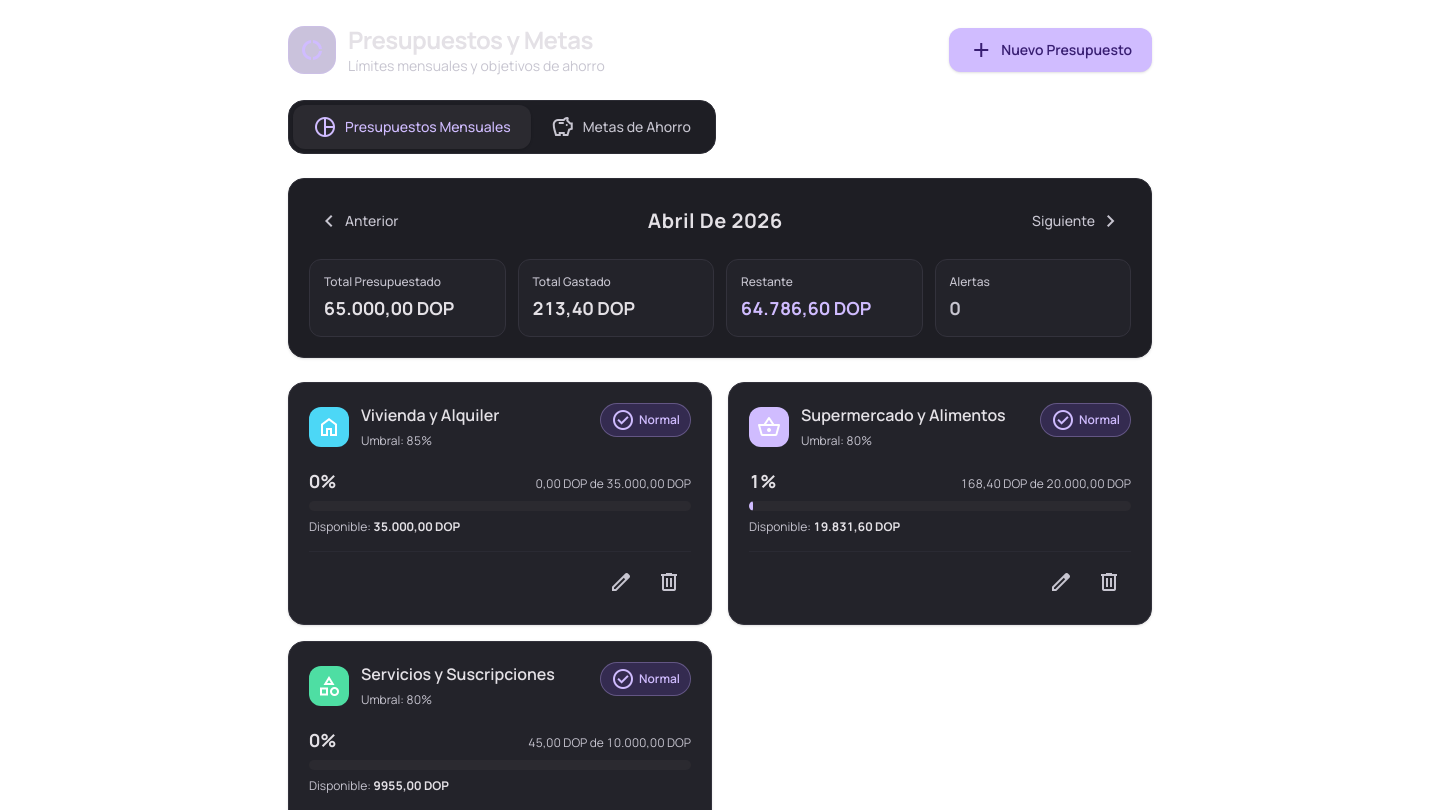
Test: BudgetsPage Integration › opens new budget modal when clicking Nuevo Presupuesto button
Step 1. Click the button "Nuevo Presupuesto" → coordinates (1051, 50), box [949,28,1152,72]
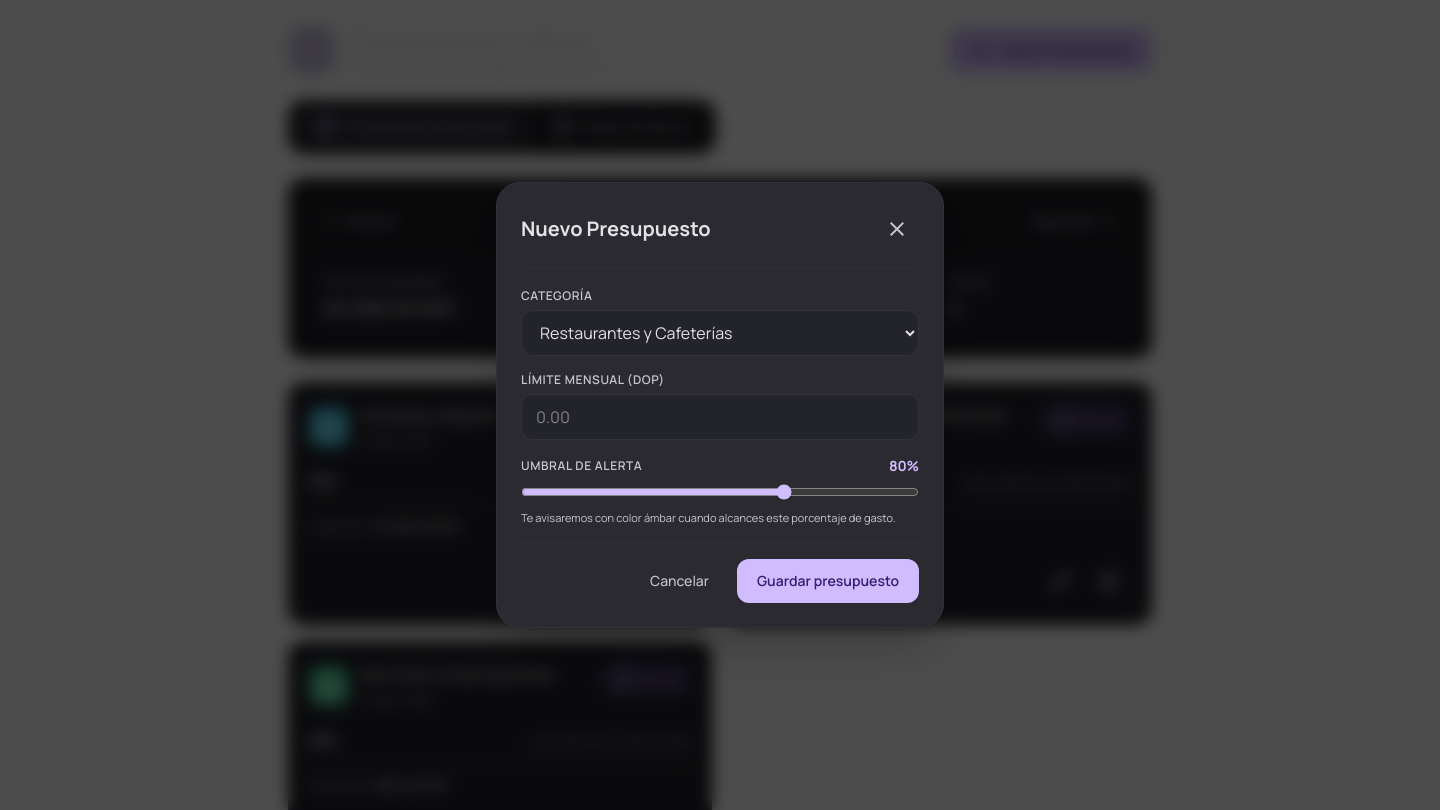
Check: the heading "Nuevo Presupuesto" is shown, box [521,215,711,243]
